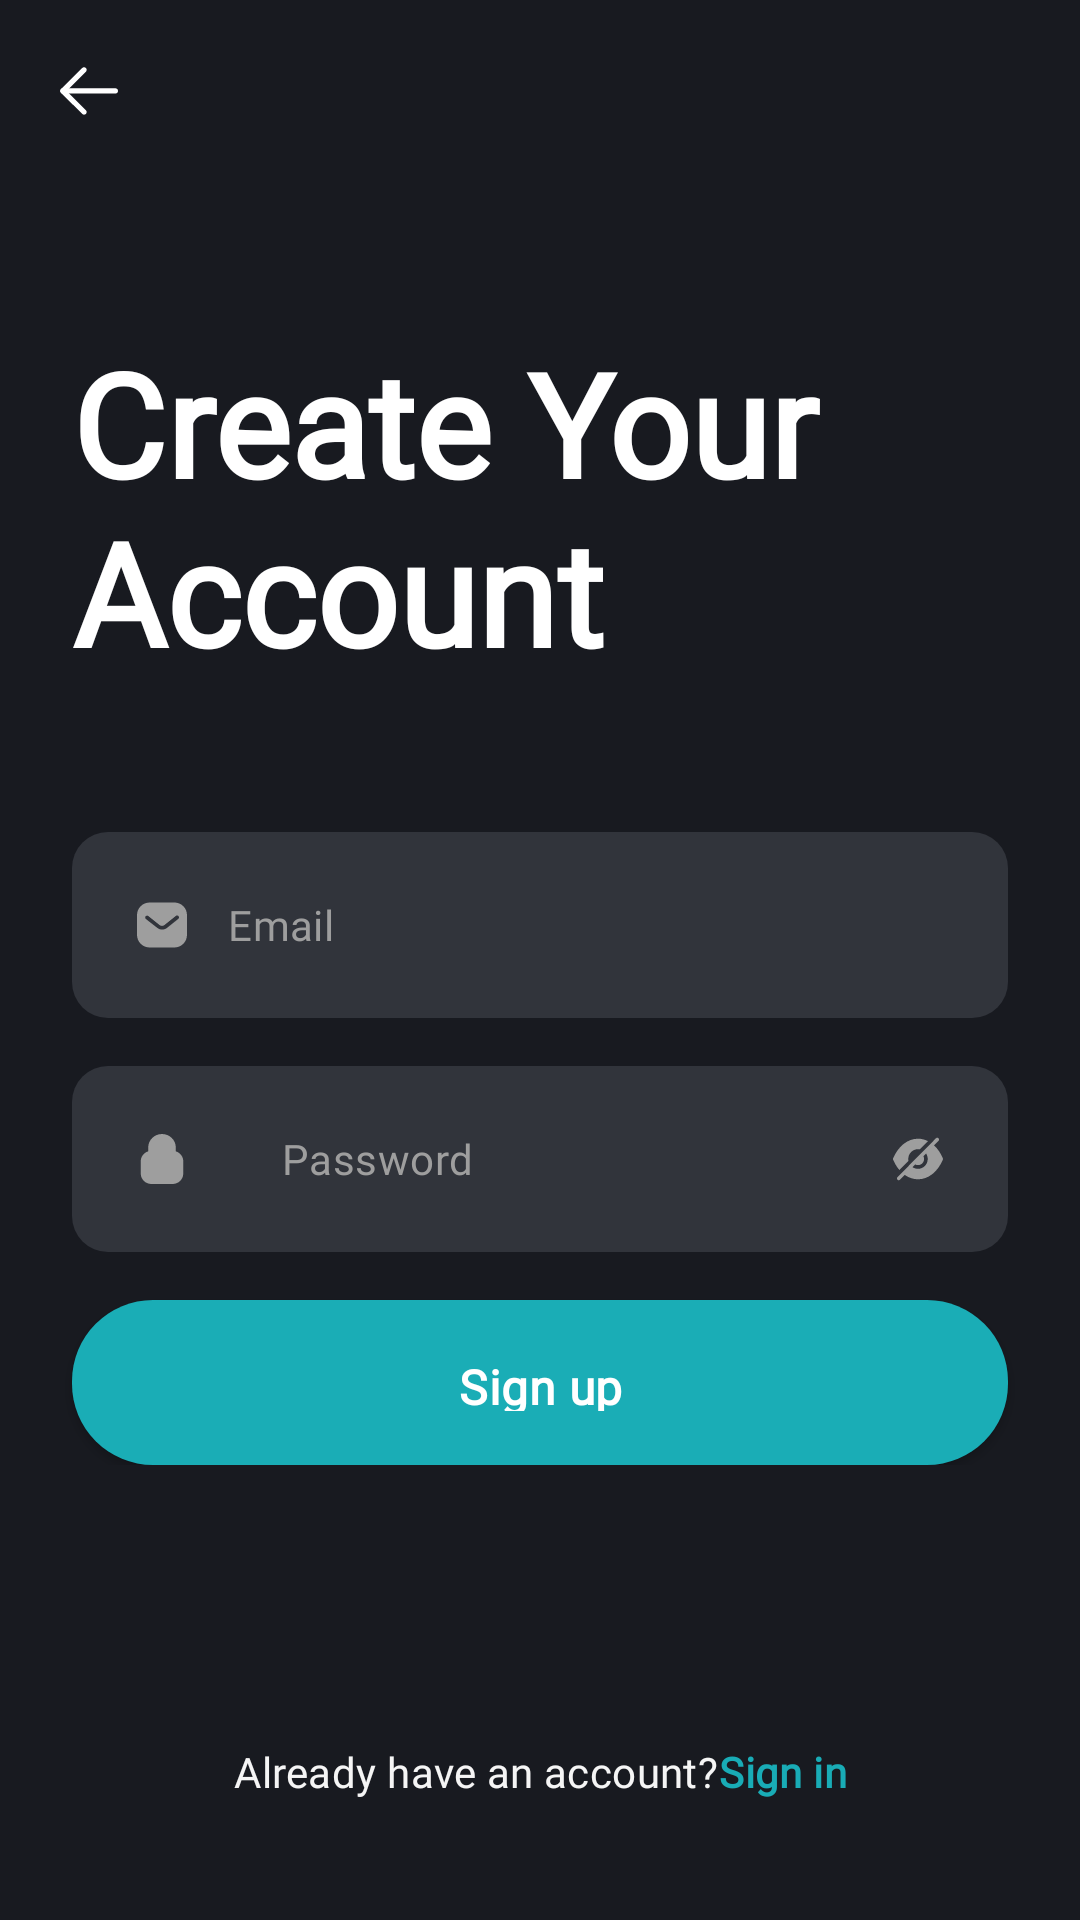

Icons on this 1080 x 1920 Android screen, each with the point to tap as point (x, y):
arrow left: point (89, 91)
